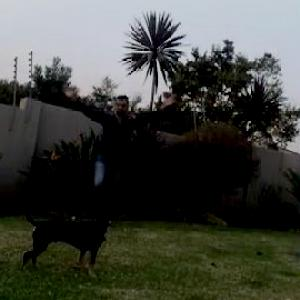takeoff: (59, 87, 180, 220)
